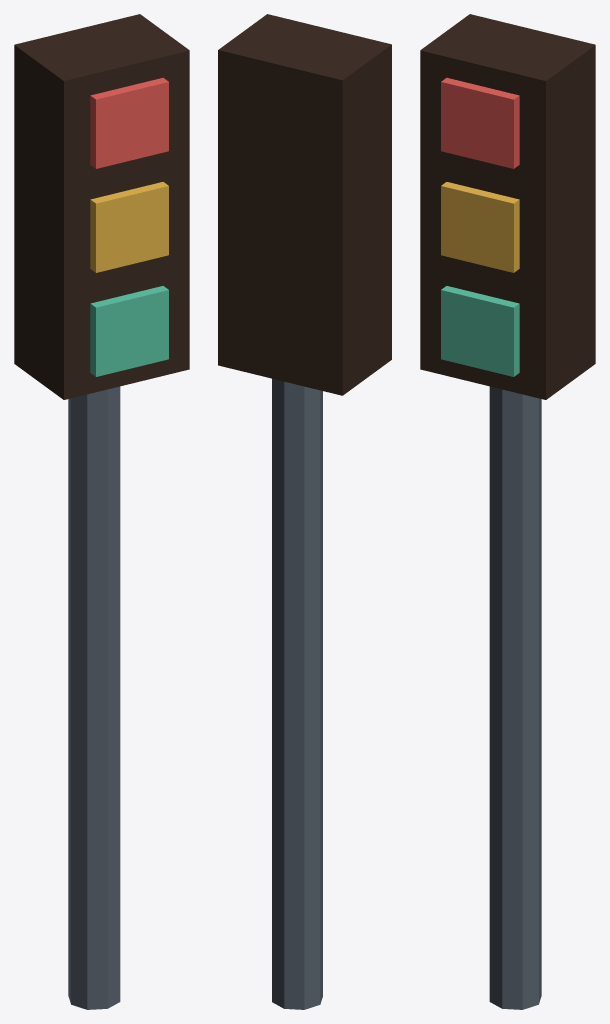
The model's file is prop_lampu_lalin.fbx.
3 views of the same model, side by side, from view 1: azimuth 30°, elevation 25°; view 2: azimuth 150°, elevation 25°; view 3: azimuth 330°, elevation 25° (orthographic).
Visible parts, largest first — view 1: prop_lampu_lalin; view 2: prop_lampu_lalin; view 3: prop_lampu_lalin.
Boxes of the visible parts, left/top/right/bottom form: prop_lampu_lalin: left=14, top=14, right=189, bottom=1009; prop_lampu_lalin: left=218, top=14, right=391, bottom=1009; prop_lampu_lalin: left=420, top=14, right=595, bottom=1009.
Size of the model in its own units: 38 by 276 by 29.
Materials: 1 (1 with a texture image).
